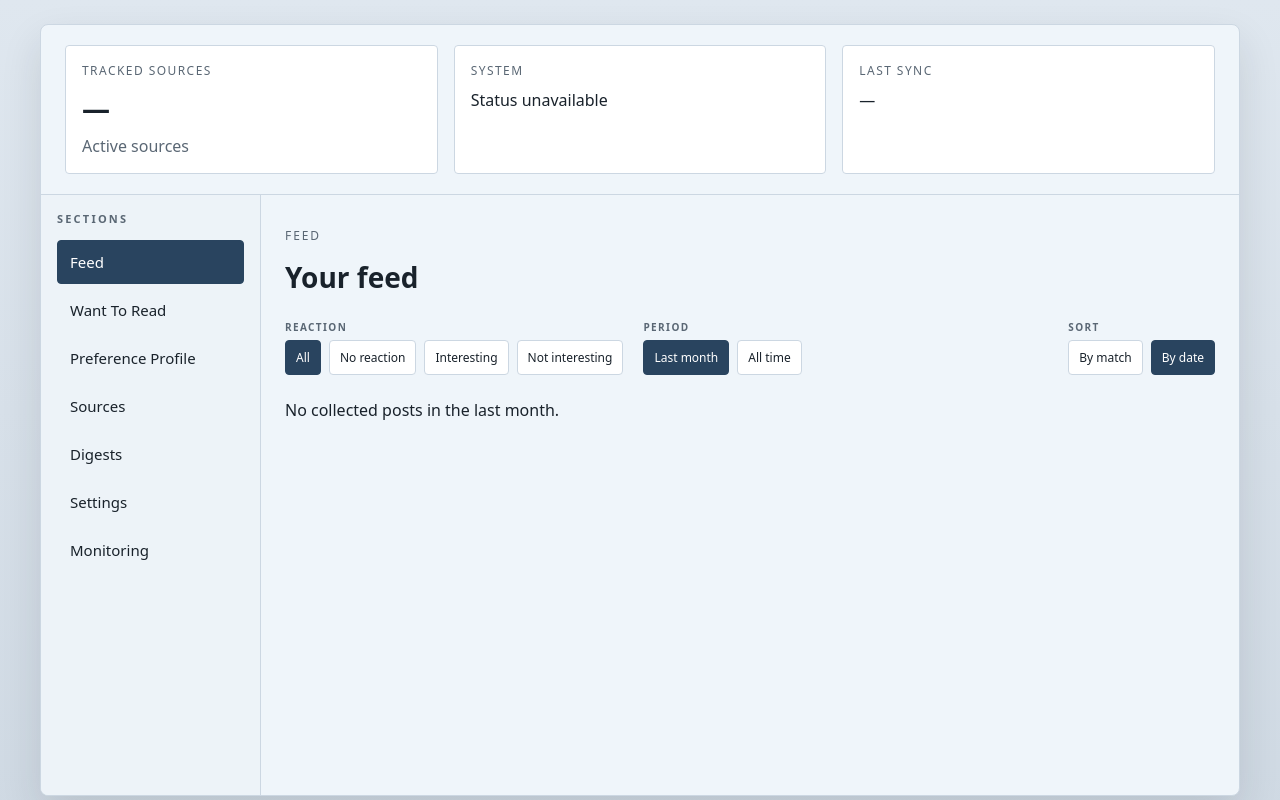
Test case: sources page supports explicit sync so the first post becomes visible in Feed
The image size is (1280, 800).
Expected: the text "No collected posts in the last month." is shown, [285,399,559,421]
Step 1. Click the button "Sources" → (150, 406), box [57,384,244,428]
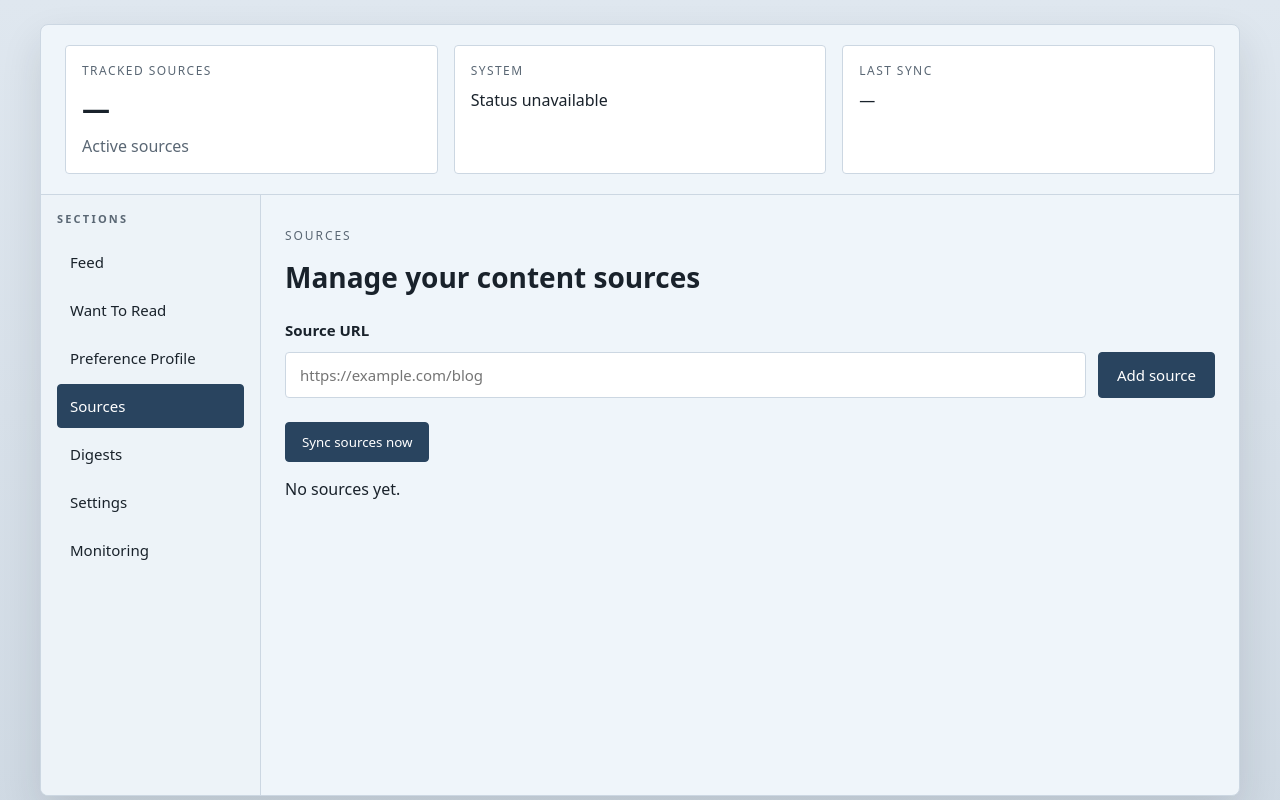
Expected: the text "No sources yet." is shown, [285,478,400,500]
Step 2. Type "example.com" into the field labelled "Source URL" → (686, 375), box [285,352,1086,398]
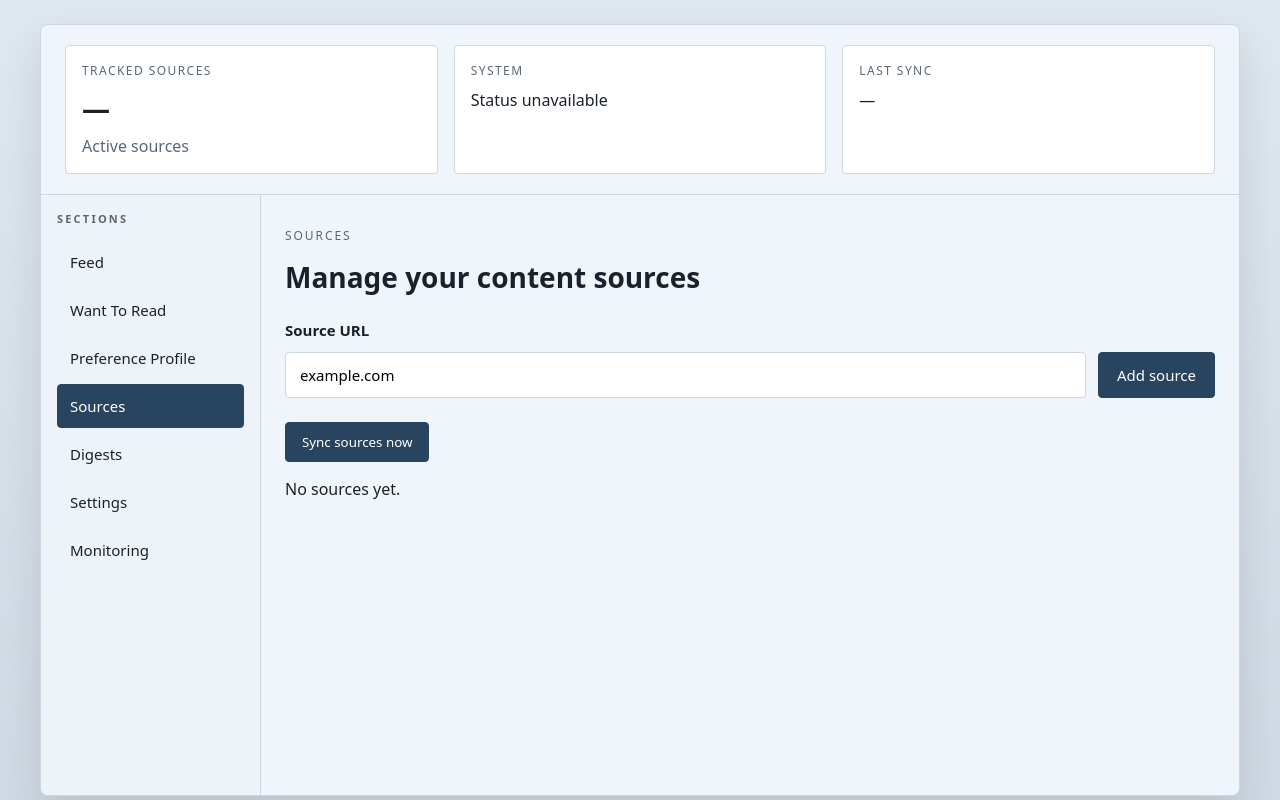
Step 3. Click the button "Add source" → (1156, 375), box [1098,352,1215,398]
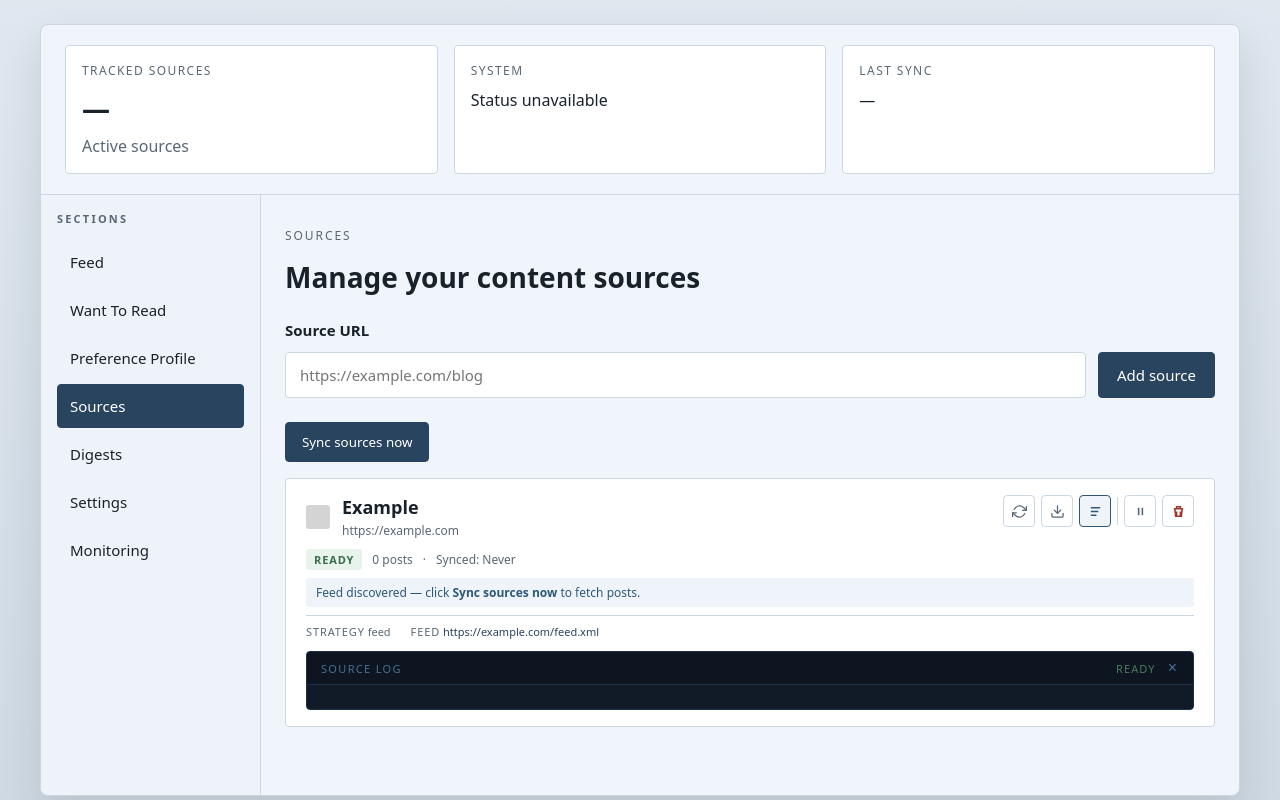
Expected: the heading "Example" is shown, [342,495,419,519]
Step 4. Click the button "Sync sources now" → (357, 442), box [285,422,429,462]
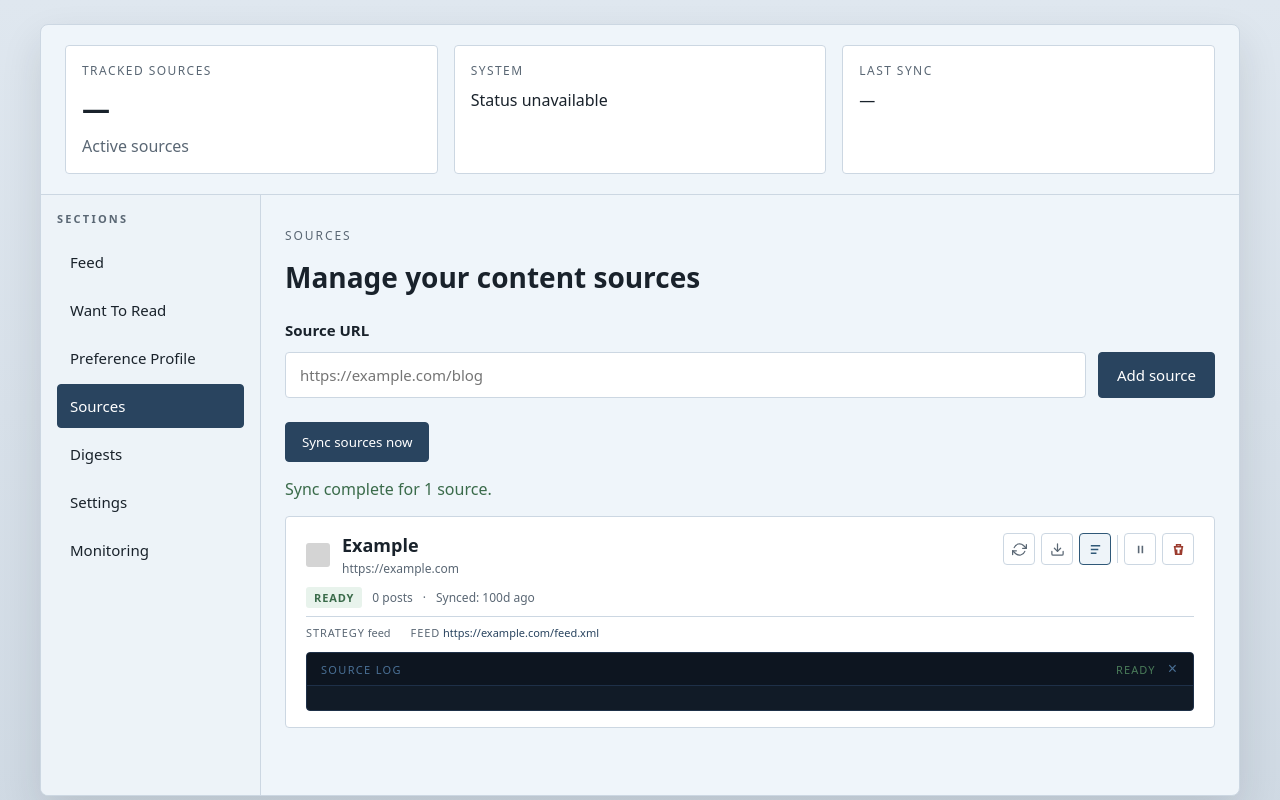
Expected: the text "Sync complete for 1 source." is shown, [285,478,492,500]
Step 5. Click the button "Feed" → (150, 262), box [57,240,244,284]
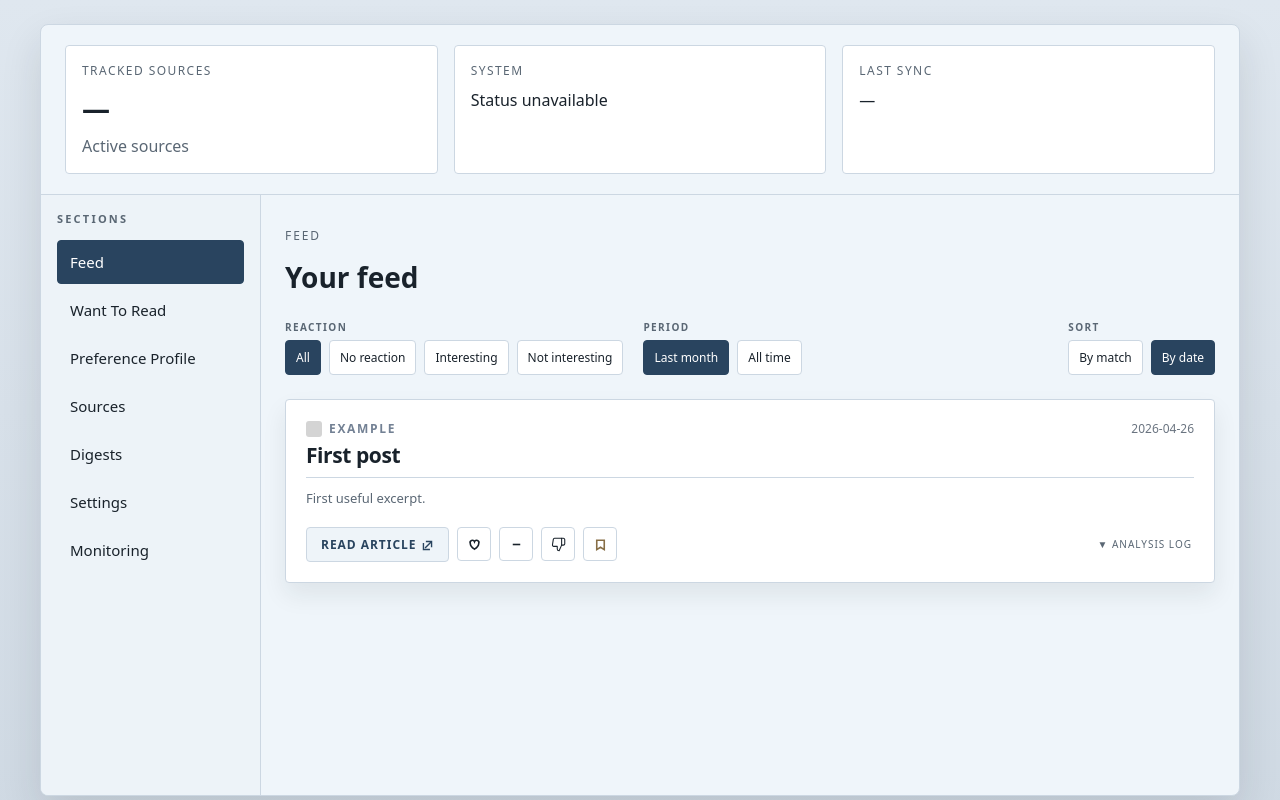
Expected: the heading "First post" is shown, [306,443,400,467]
